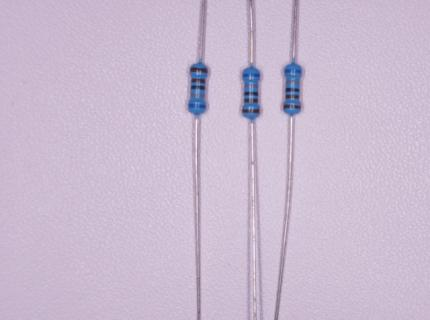Black band: (285, 87, 300, 92), (191, 85, 205, 90), (245, 91, 258, 96)
Blue band: (285, 68, 302, 74), (188, 104, 206, 109), (243, 74, 260, 77)
Brown band: (190, 67, 208, 73), (242, 108, 260, 114), (191, 78, 206, 84), (283, 104, 301, 109), (244, 98, 258, 103), (285, 95, 299, 99)
Grey band: (190, 93, 205, 98), (244, 84, 259, 88), (286, 80, 300, 84)
